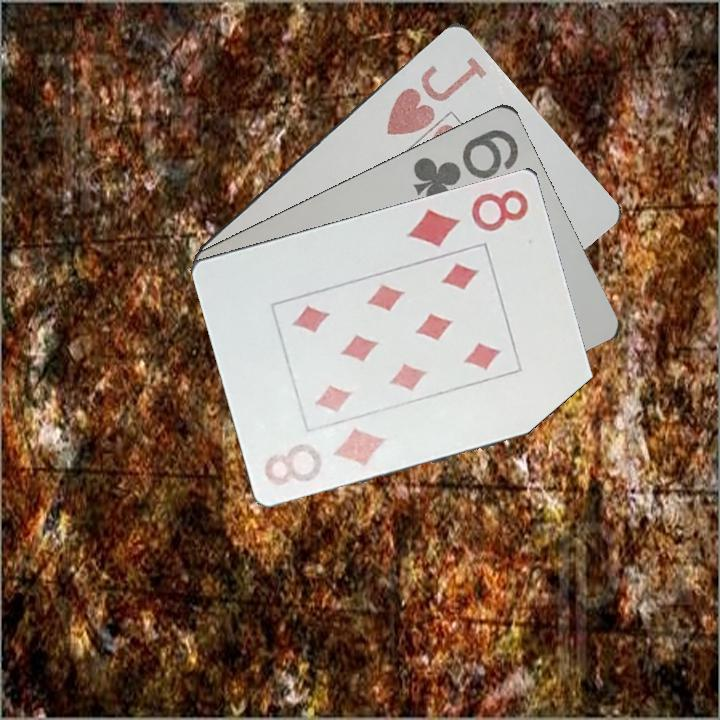6c: (409, 125, 522, 208)
8d: (260, 424, 390, 489), (403, 185, 532, 250)
Jh: (383, 52, 490, 139)
